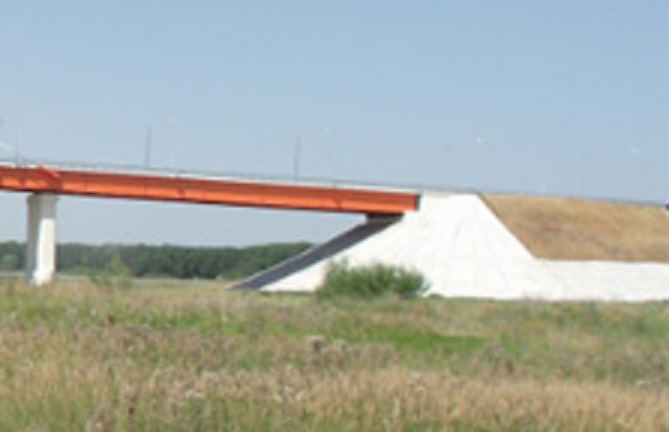bridge: (4, 157, 424, 297)
